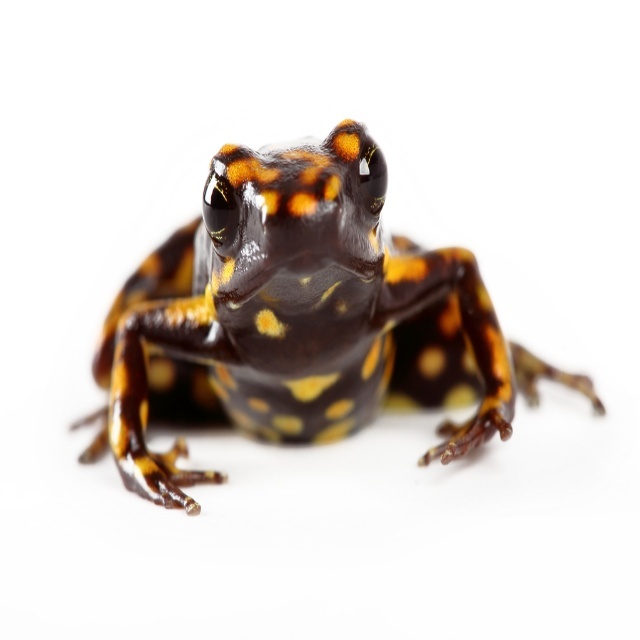Frog: (69, 119, 606, 519)
